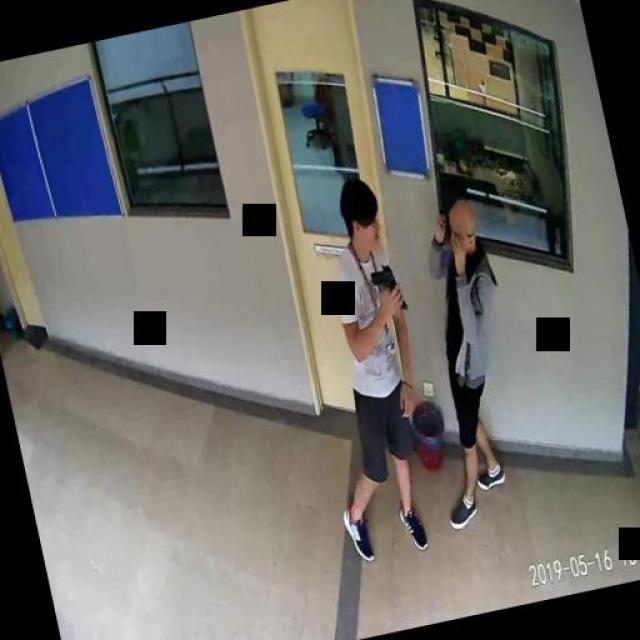gun: (367, 261, 405, 314)
